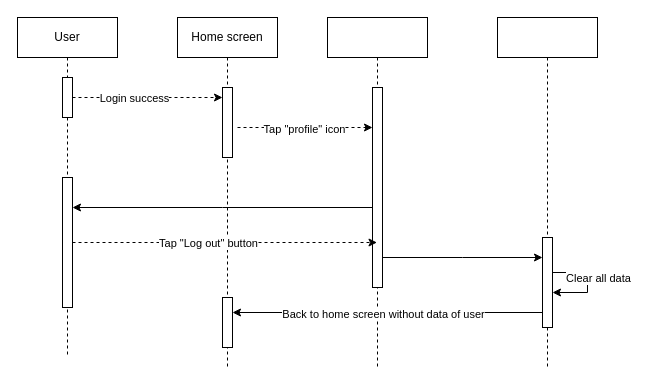
The diagram is 648 pixels wide and 385 high, and some of its shapes have lost their labels. The shapes that lost their labels are listed below. From the top down, each one's box as (x1, y1, x2, y2) in pixels, then its label:
(326, 16, 428, 368): Profile screen
(496, 16, 598, 368): System
